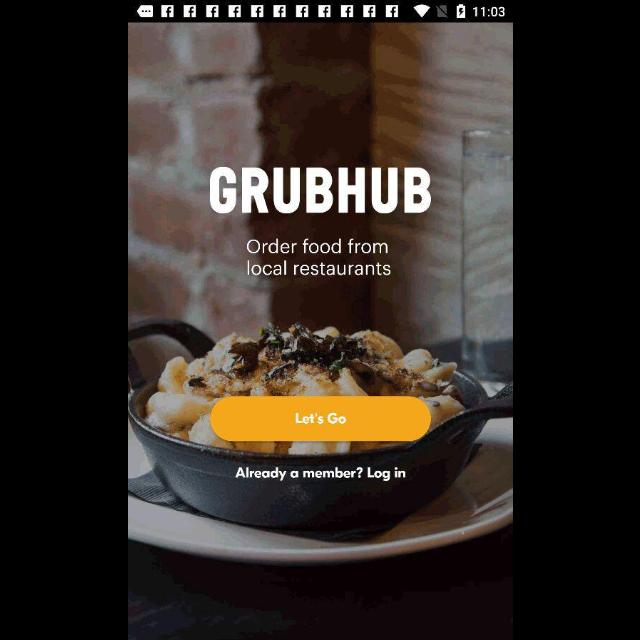backgroundimage: (128, 24, 512, 640)
text: (210, 168, 430, 215), (246, 238, 390, 276), (235, 467, 405, 481)
textbutton: (210, 396, 430, 442)
uppertaskbar: (128, 1, 512, 23)
